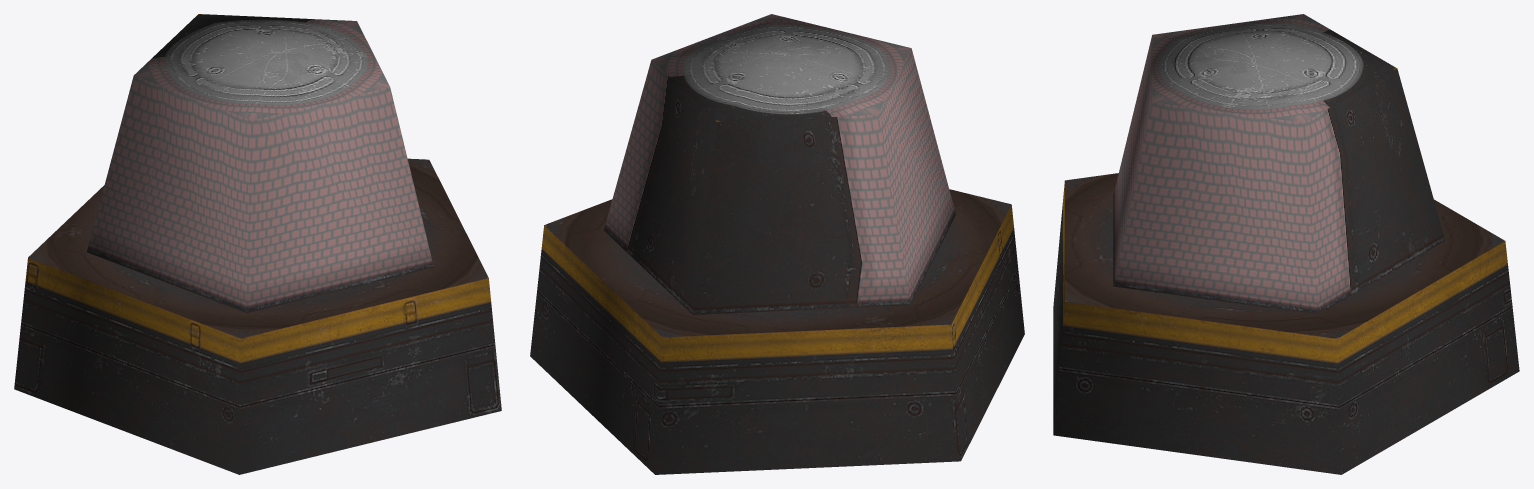
File: Lamp_Position_L3.fbx
3 views of the same model, side by side, from view 1: azimuth 30°, elevation 25°; view 2: azimuth 150°, elevation 25°; view 3: azimuth 270°, elevation 25° (orthographic).
Parts seen in each view (by area): view 1: Base, Lamp; view 2: Base, Lamp; view 3: Base, Lamp.
Boxes of the visible parts, bbox=[...] form: Base: bbox=[14, 158, 501, 474]; Lamp: bbox=[87, 14, 433, 313]; Base: bbox=[530, 189, 1024, 474]; Lamp: bbox=[604, 14, 955, 314]; Base: bbox=[1053, 173, 1519, 474]; Lamp: bbox=[1113, 14, 1445, 314].
Bounding box in the file's own units: 16.92 × 12.07 × 16.09.
